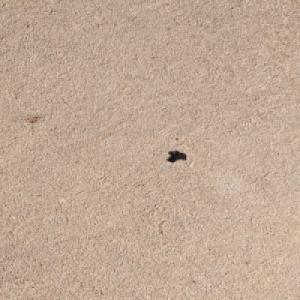BoltWasher: (165, 149, 182, 161)
